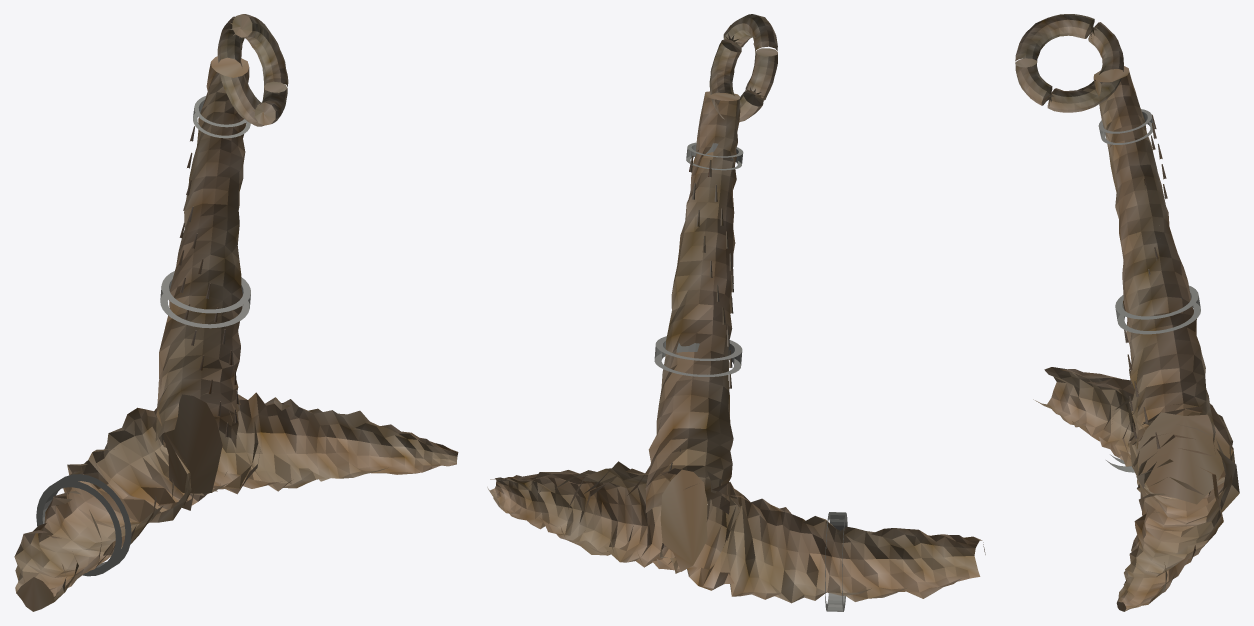
Rendered from anchor.glb.
The picture shows the model from 3 angles, left to right: view 1: azimuth 30°, elevation 25°; view 2: azimuth 150°, elevation 25°; view 3: azimuth 270°, elevation 25°; orthographic projection. The views are drawn at different scales.
Visible parts, largest first — view 1: Main wooden shank, Wooden fluke 1, Wooden fluke -1, Top mooring eye, Left iron fastening, Shank iron fastening, Upper iron fastening; view 2: Main wooden shank, Wooden fluke -1, Wooden fluke 1, Top mooring eye, Shank iron fastening, Left iron fastening; view 3: Main wooden shank, Wooden fluke -1, Wooden fluke 1, Top mooring eye, Shank iron fastening, Upper iron fastening.
Boxes of the visible parts, x1,y1,x2,y2 form: Main wooden shank: (155,56,249,448); Wooden fluke 1: (163,392,458,495); Wooden fluke -1: (14,398,217,611); Top mooring eye: (217,14,288,126); Left iron fastening: (36,474,131,576); Shank iron fastening: (160,271,250,328); Upper iron fastening: (193,96,250,138); Main wooden shank: (645,91,740,514); Wooden fluke -1: (659,471,985,603); Wooden fluke 1: (487,461,707,571); Top mooring eye: (709,14,777,121); Shank iron fastening: (654,336,742,376); Left iron fastening: (825,512,847,611); Main wooden shank: (1093,66,1215,456); Wooden fluke -1: (1033,367,1234,504); Wooden fluke 1: (1116,424,1239,611); Top mooring eye: (1015,14,1123,112); Shank iron fastening: (1115,285,1200,334); Upper iron fastening: (1098,109,1154,144).
Bounding box in the file's own units: 4.28 × 4.67 × 1.85.
